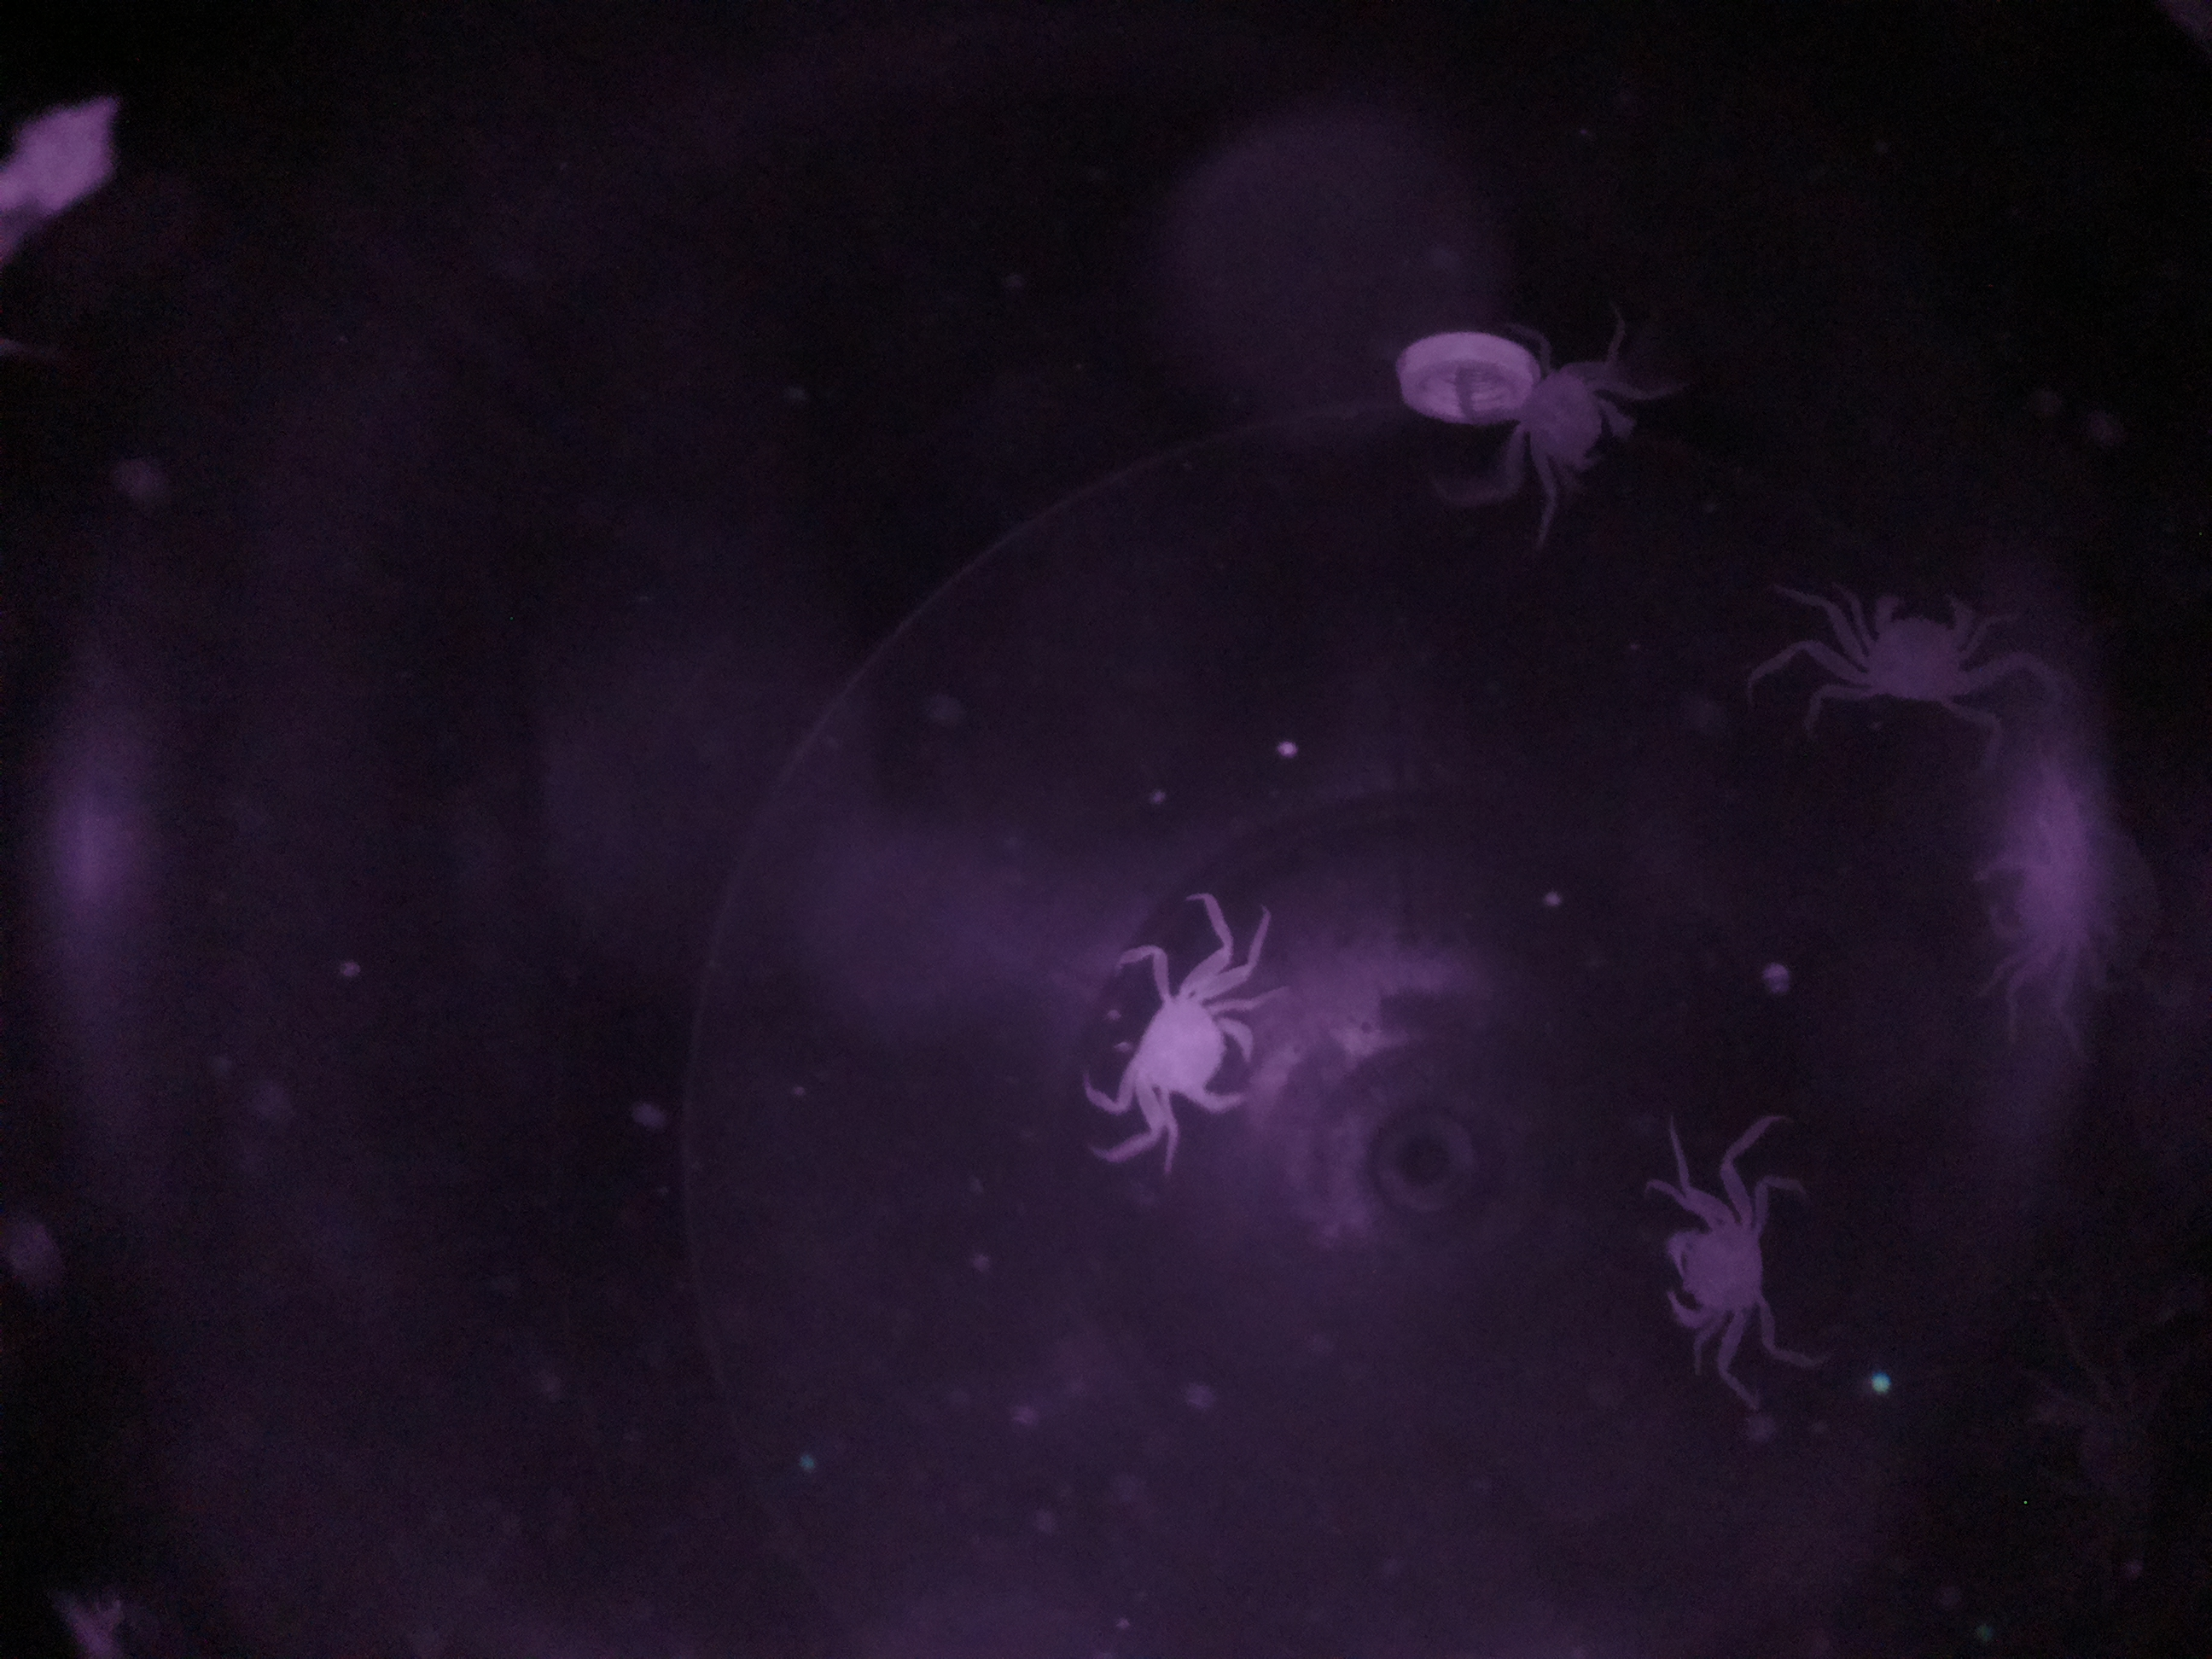Crab: (1106, 920, 1282, 1148), (1632, 1143, 1803, 1352), (1846, 554, 2020, 739)
